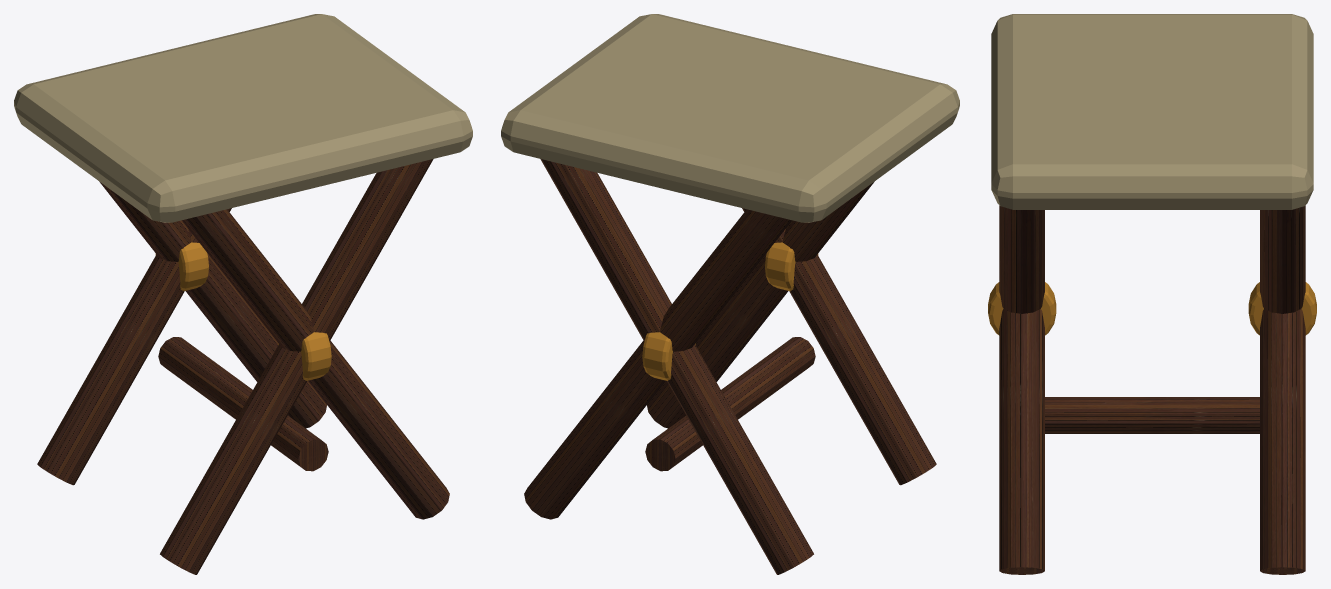
Rendered from folding-stool.glb.
3 views of the same model, side by side, from view 1: azimuth 30°, elevation 25°; view 2: azimuth 150°, elevation 25°; view 3: azimuth 270°, elevation 25° (orthographic). The views are drawn at different scales.
Parts seen in each view (by area): view 1: StoolCanvasSeat, StoolLegA_0.21, StoolLegB_0.21, StoolLegA_-0.21, StoolLegB_-0.21, StoolCrossbar, StoolPivot_0.21, StoolPivot_-0.21; view 2: StoolCanvasSeat, StoolLegA_-0.21, StoolLegB_-0.21, StoolLegA_0.21, StoolLegB_0.21, StoolCrossbar, StoolPivot_-0.21, StoolPivot_0.21; view 3: StoolCanvasSeat, StoolLegB_-0.21, StoolLegB_0.21, StoolCrossbar, StoolLegA_-0.21, StoolLegA_0.21, StoolPivot_-0.21, StoolPivot_0.21.
Part boxes in pixels (box(x1,y1,x2,y2)): StoolCanvasSeat: box(14, 14, 472, 222); StoolLegA_0.21: box(160, 159, 433, 574); StoolLegB_0.21: box(182, 209, 449, 519); StoolLegA_-0.21: box(37, 208, 231, 485); StoolLegB_-0.21: box(99, 181, 326, 428); StoolCrossbar: box(158, 337, 328, 471); StoolPivot_0.21: box(278, 332, 331, 380); StoolPivot_-0.21: box(155, 242, 208, 291); StoolCanvasSeat: box(501, 14, 959, 222); StoolLegA_-0.21: box(540, 159, 813, 574); StoolLegB_-0.21: box(524, 209, 791, 519); StoolLegA_0.21: box(742, 208, 936, 485); StoolLegB_0.21: box(647, 181, 874, 428); StoolCrossbar: box(645, 337, 815, 471); StoolPivot_-0.21: box(642, 332, 695, 380); StoolPivot_0.21: box(765, 242, 818, 291); StoolCanvasSeat: box(991, 14, 1313, 209); StoolLegB_-0.21: box(1260, 309, 1305, 574); StoolLegB_0.21: box(999, 309, 1044, 574); StoolCrossbar: box(1045, 397, 1259, 433); StoolLegA_-0.21: box(1260, 205, 1305, 313); StoolLegA_0.21: box(999, 205, 1044, 313); StoolPivot_-0.21: box(1248, 282, 1316, 335); StoolPivot_0.21: box(988, 282, 1056, 335).
Size of the model in its own units: 0.64 by 0.761 by 0.53.
3 materials, 1 textured.
